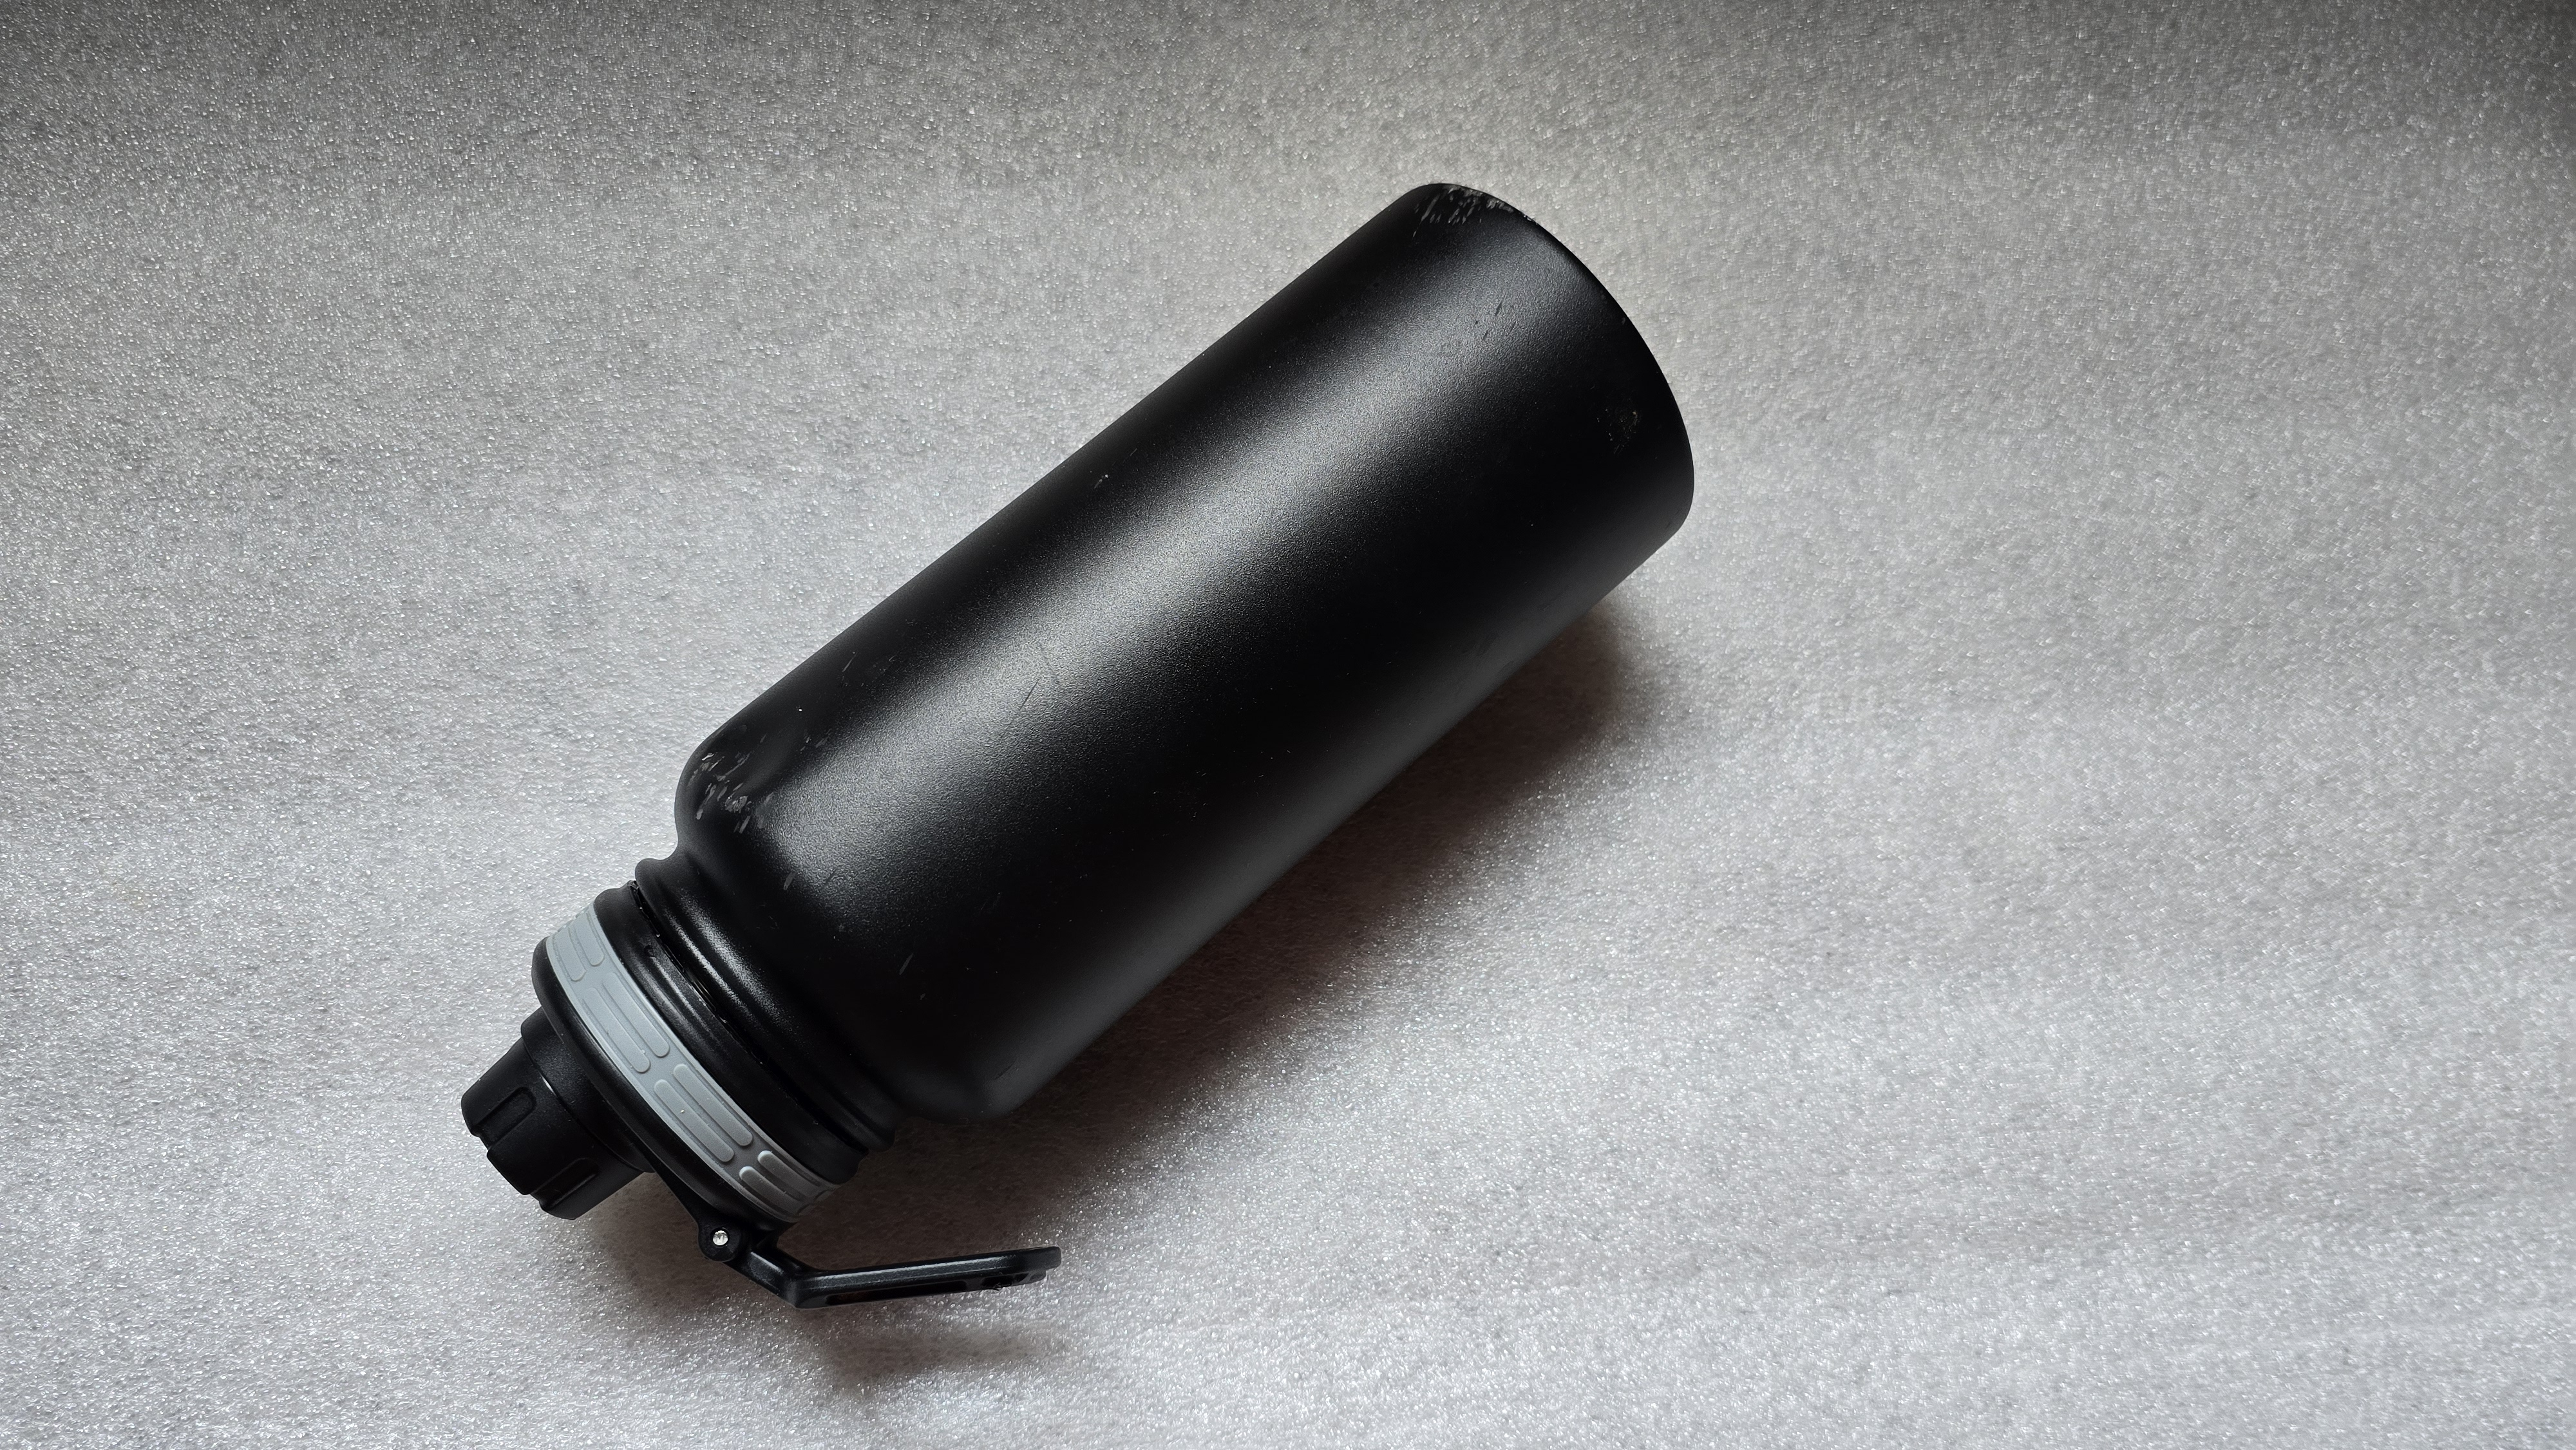bottle: (453, 127, 1821, 1372)
